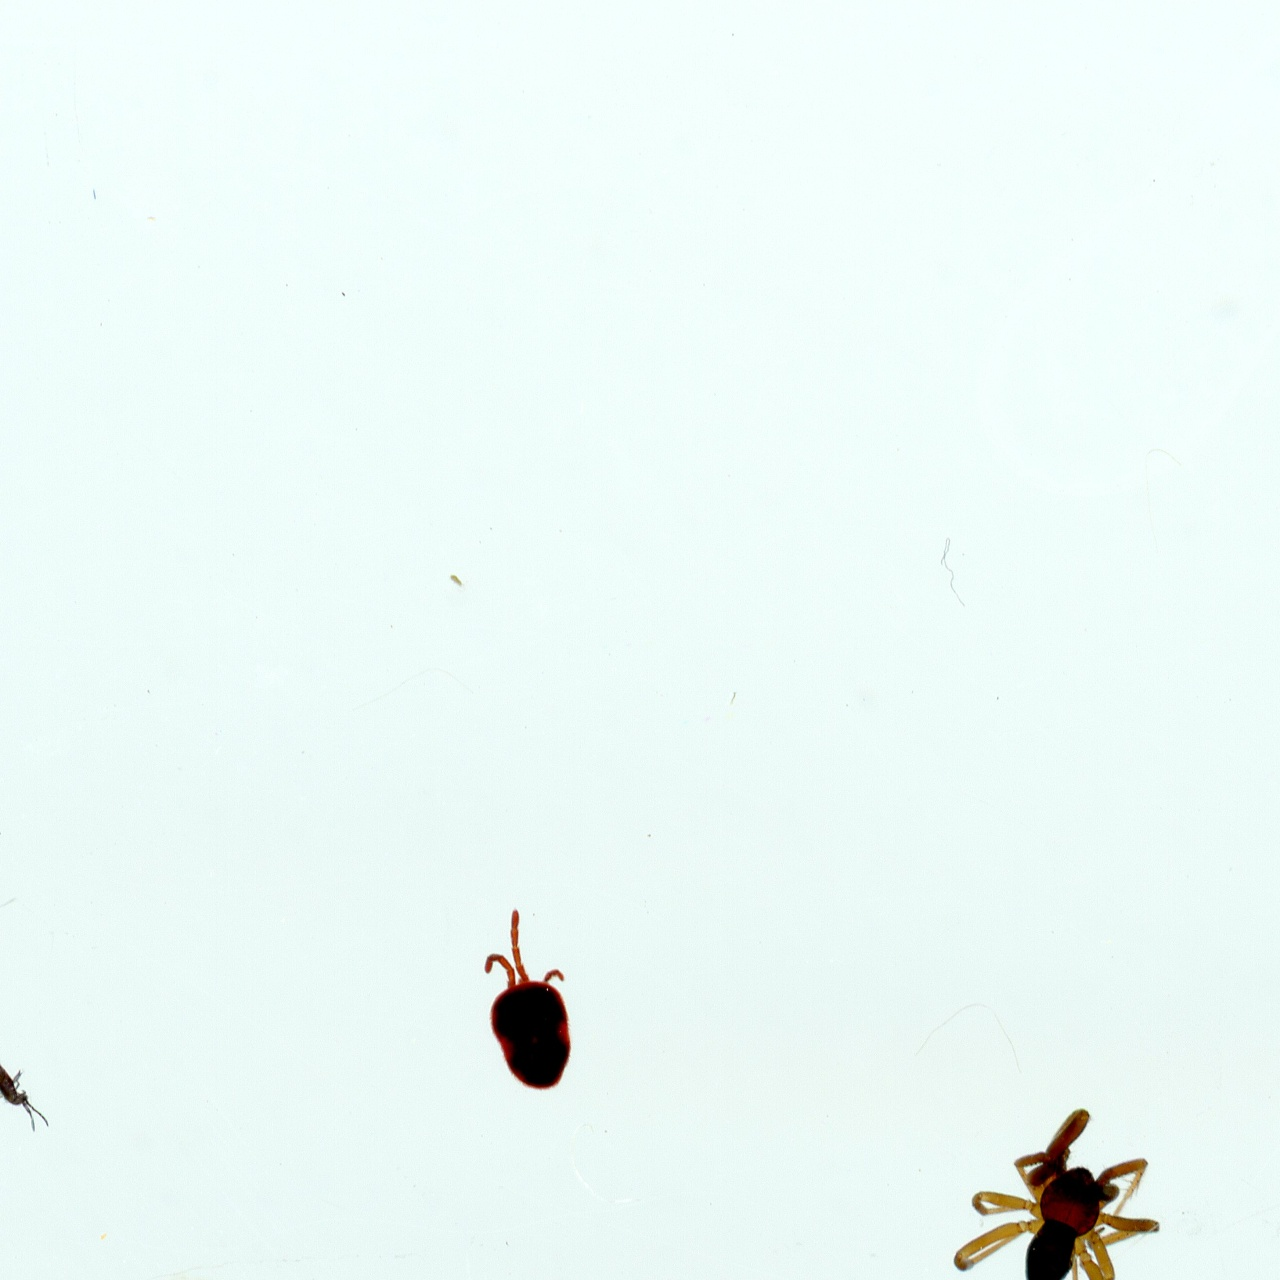arthropod: (914, 1076, 1190, 1280), (477, 906, 584, 1101), (0, 1028, 64, 1155)
